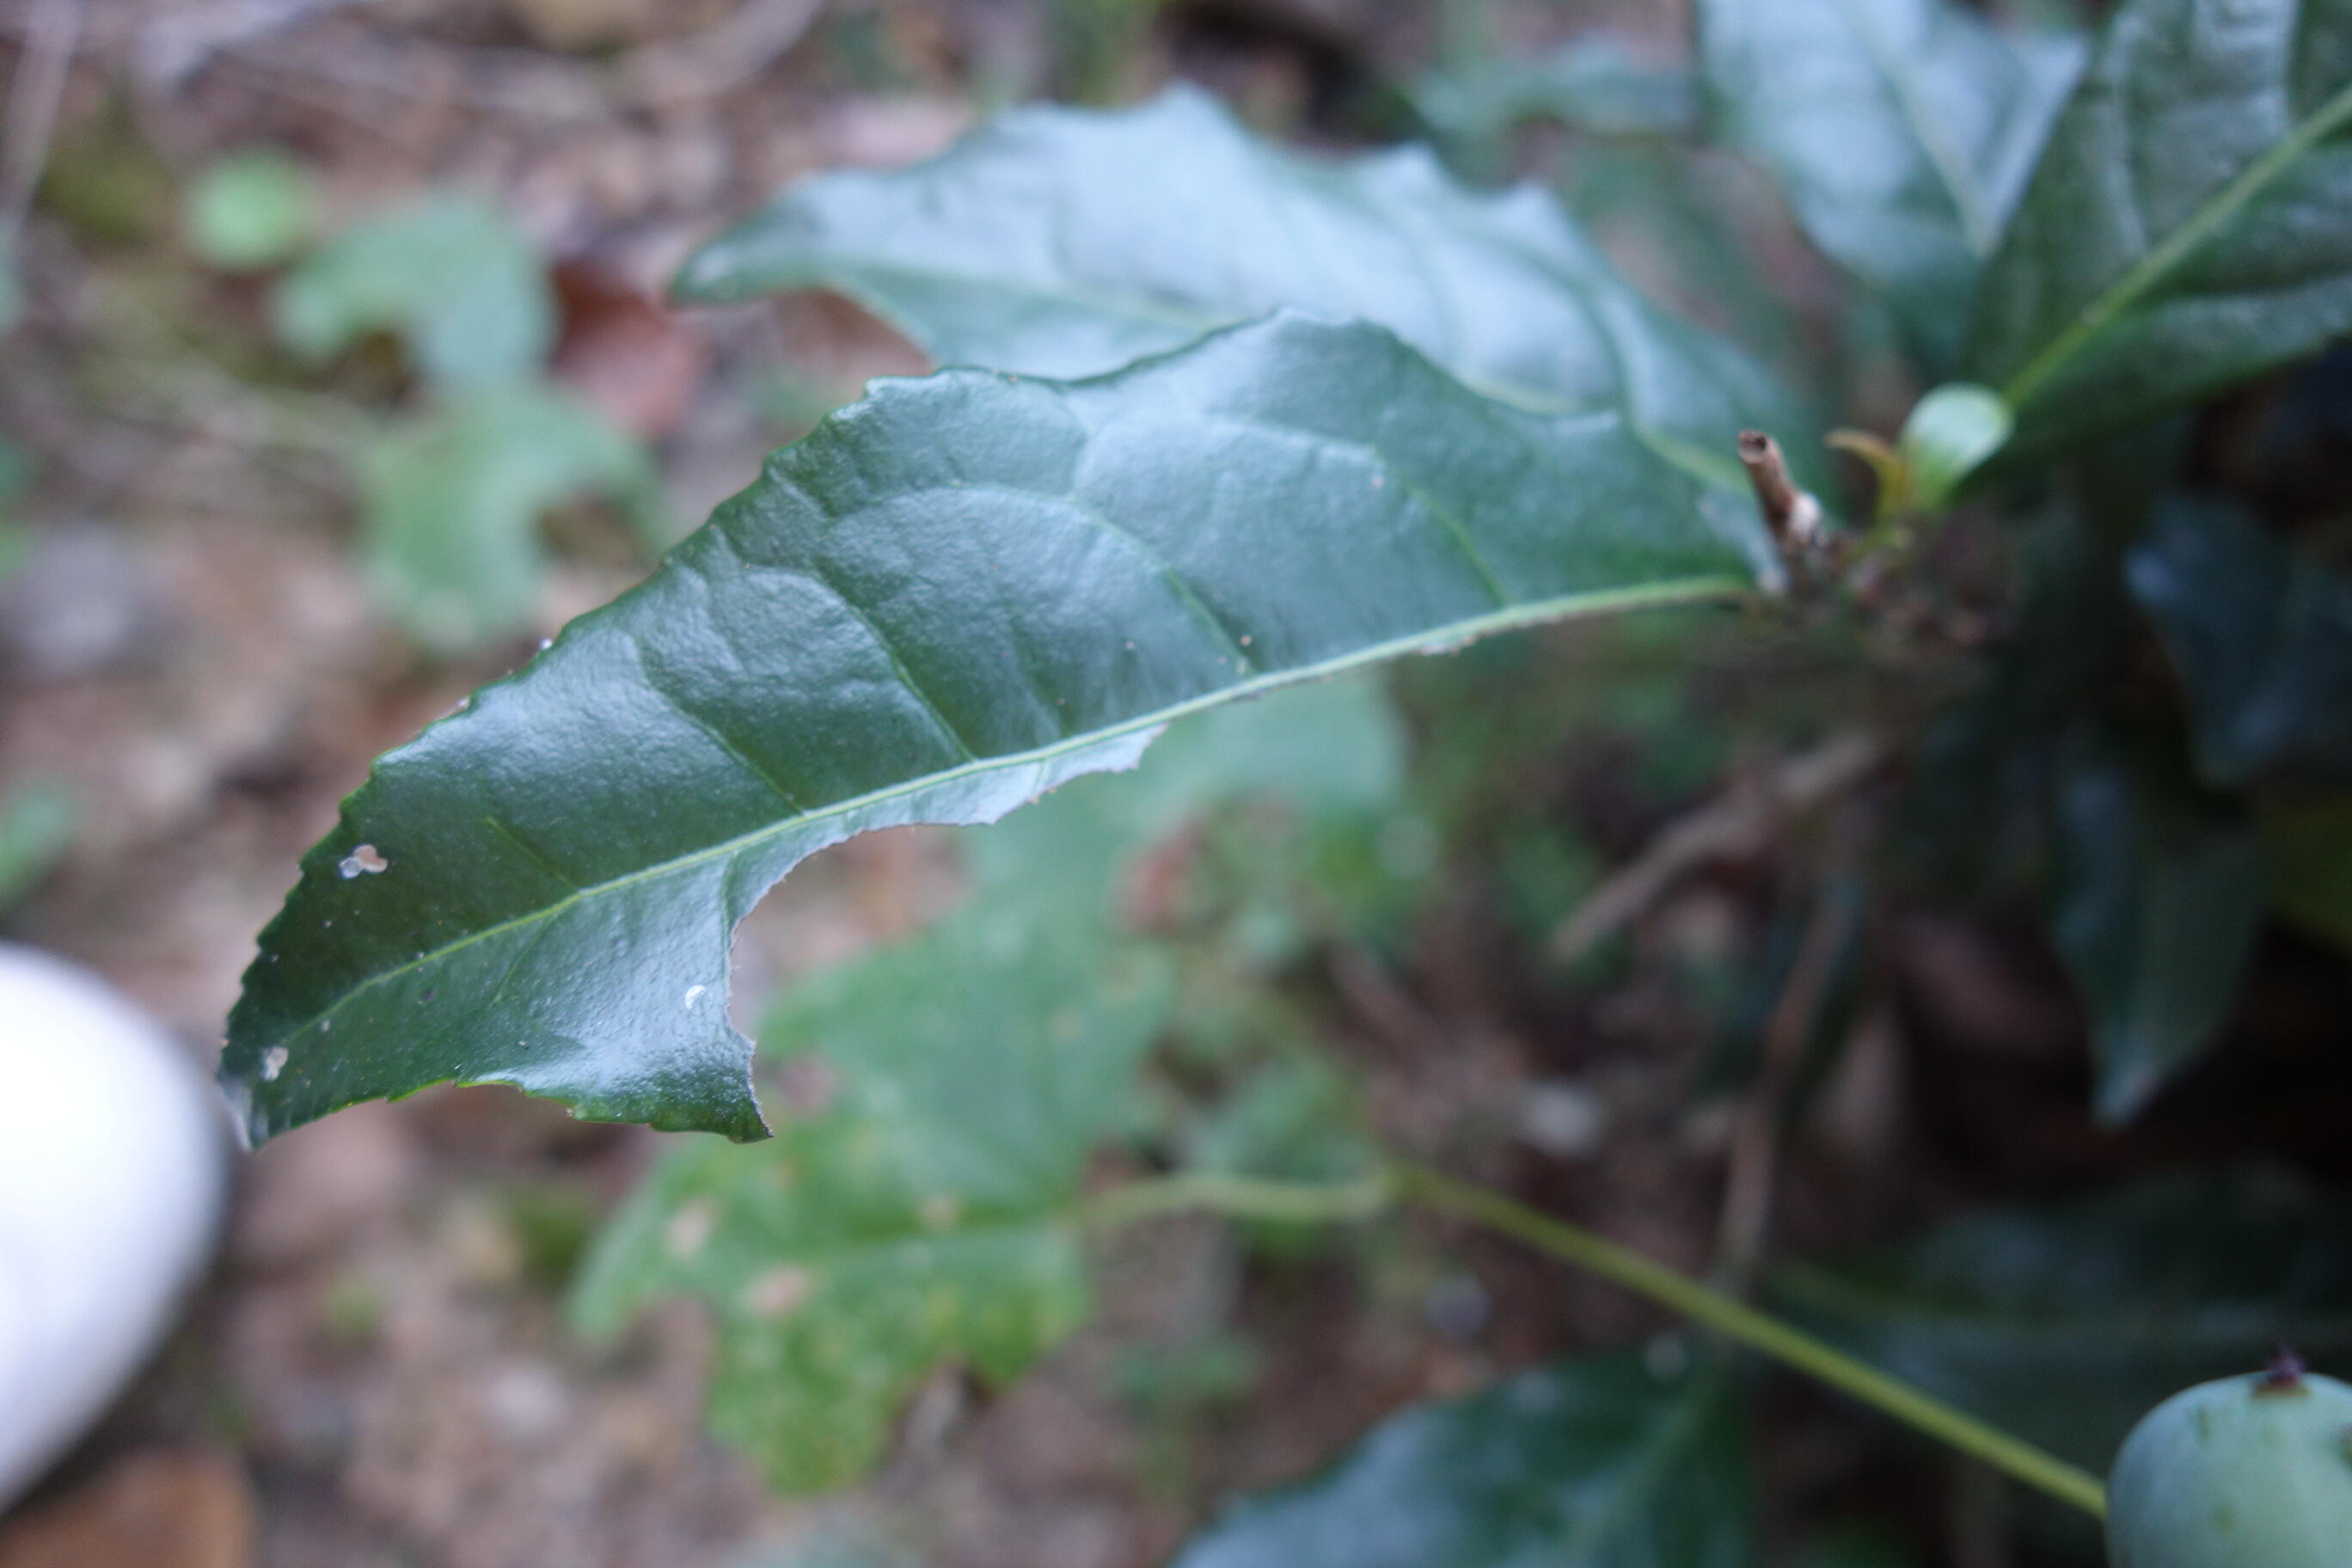chihuo_high: (201, 301, 1787, 1155)
